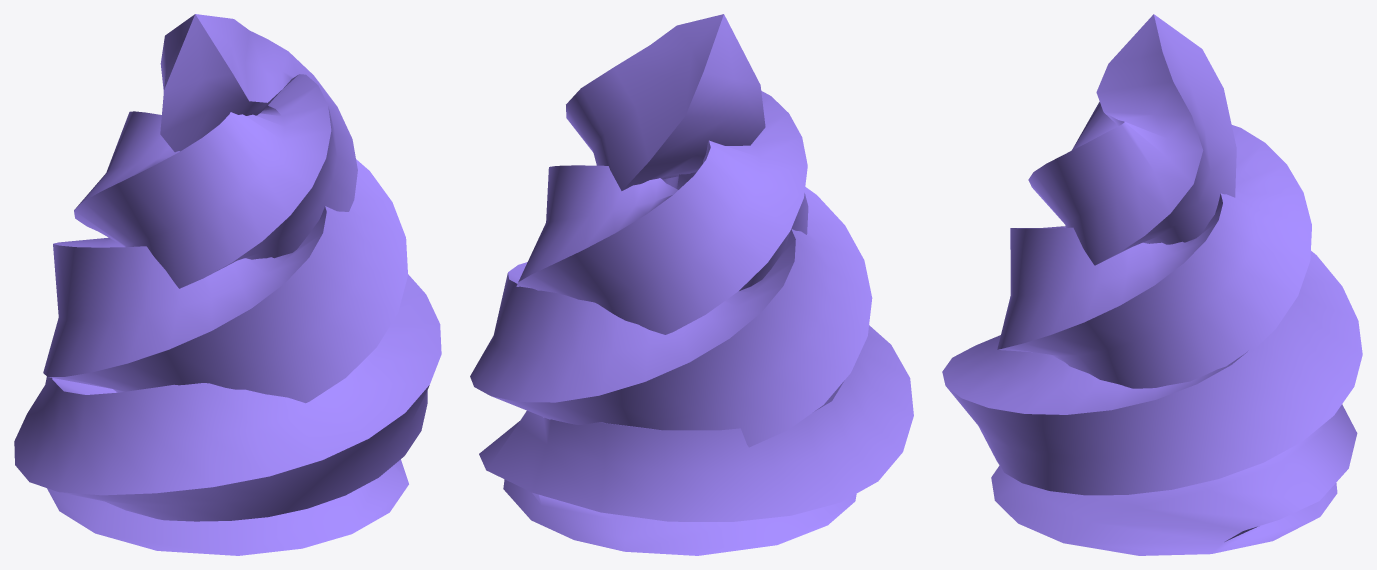
Rendered from Ice Cream Hat J.fbx.
The picture shows the model from 3 angles, left to right: view 1: azimuth 30°, elevation 25°; view 2: azimuth 150°, elevation 25°; view 3: azimuth 270°, elevation 25°; orthographic projection. The views are drawn at different scales.
Parts seen in each view (by area): view 1: Ice Cream Hat J; view 2: Ice Cream Hat J; view 3: Ice Cream Hat J.
Part boxes in pixels (<box>): Ice Cream Hat J: <box>14,14,441,555</box>; Ice Cream Hat J: <box>470,14,913,555</box>; Ice Cream Hat J: <box>942,14,1362,555</box>.
Bounding box in the file's own units: 0.494 × 0.5946 × 0.4981.
